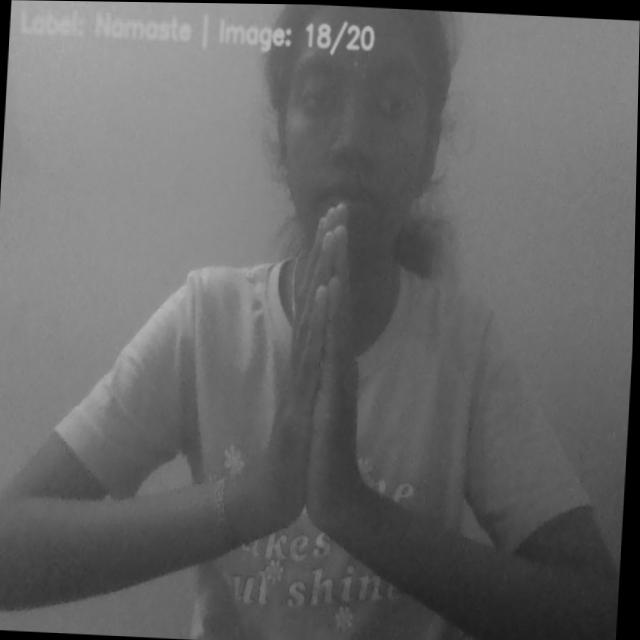Namaste: (253, 192, 398, 546)
